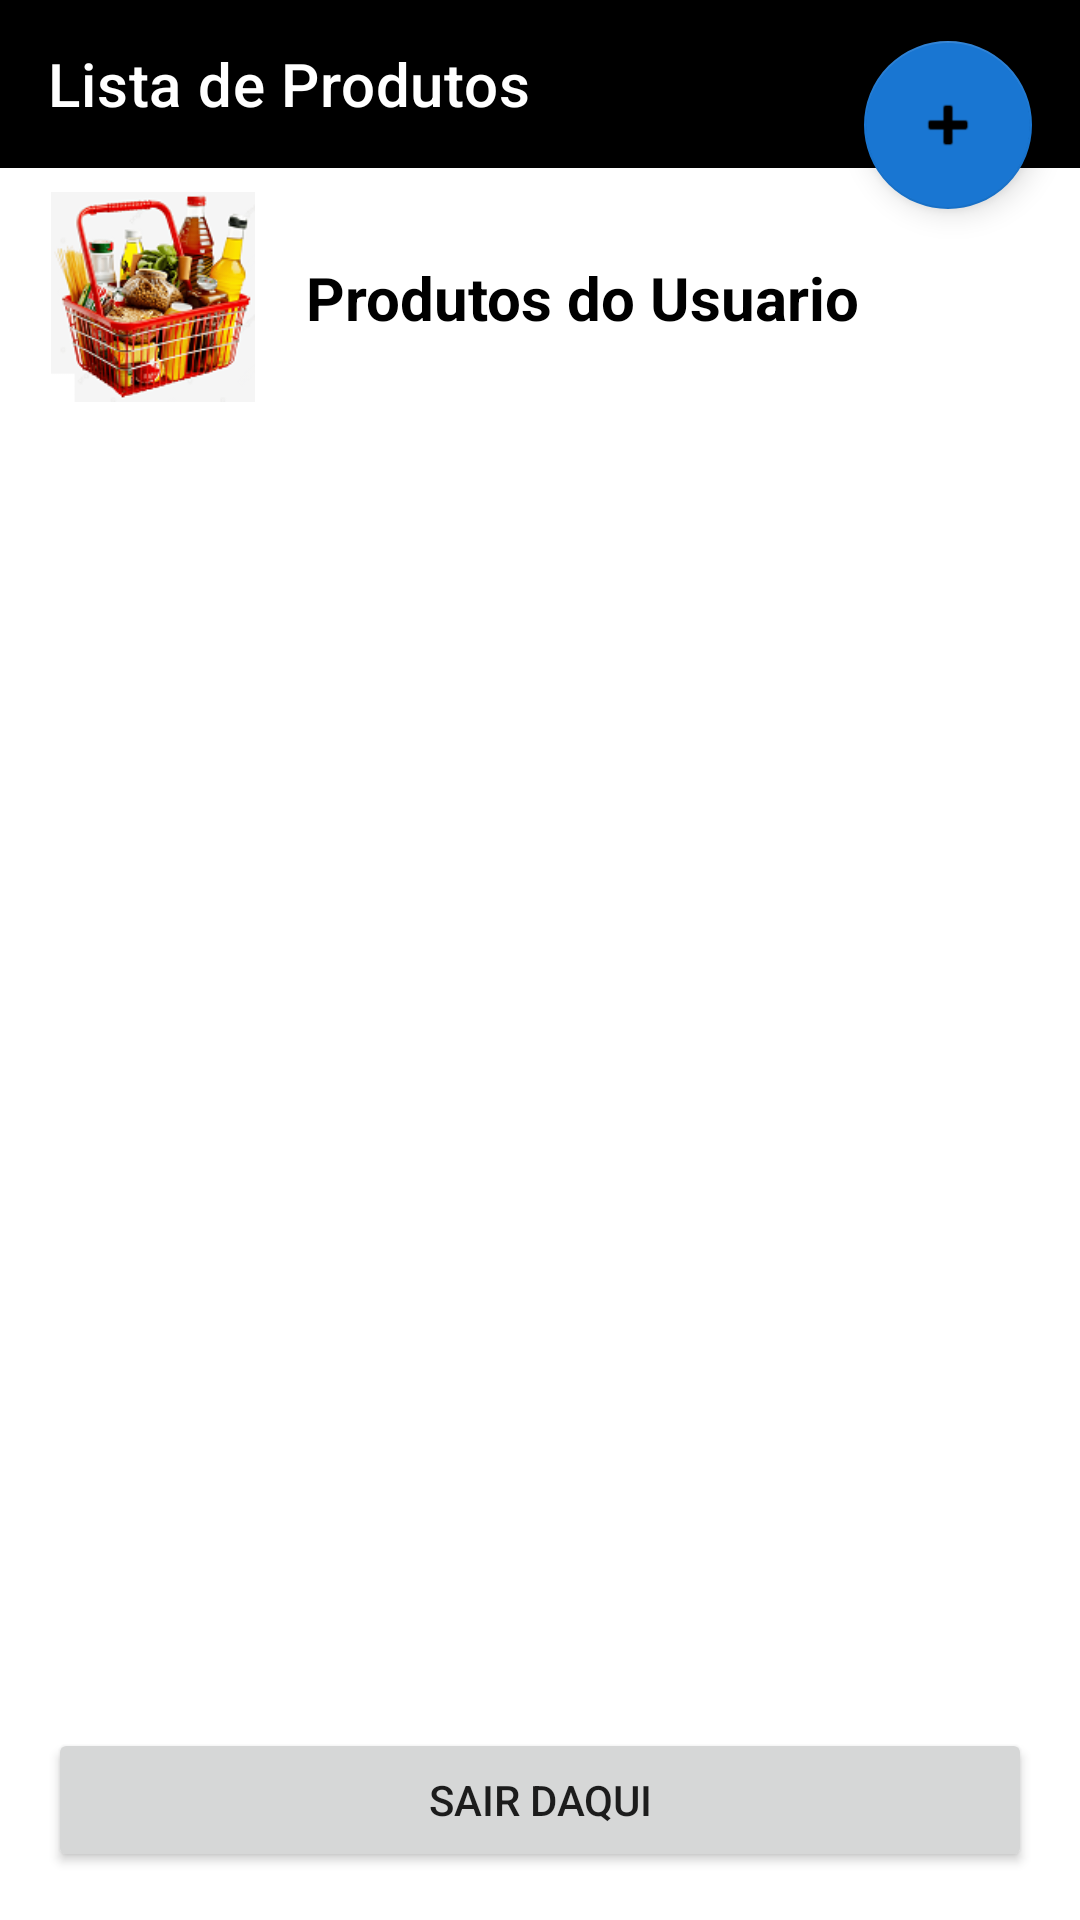

Where icons sit on this 1080*1920 app screen, as (x1, y1, x2, y2):
cesta compras: (56, 195, 251, 398)
Novo item: (864, 41, 1032, 209)
